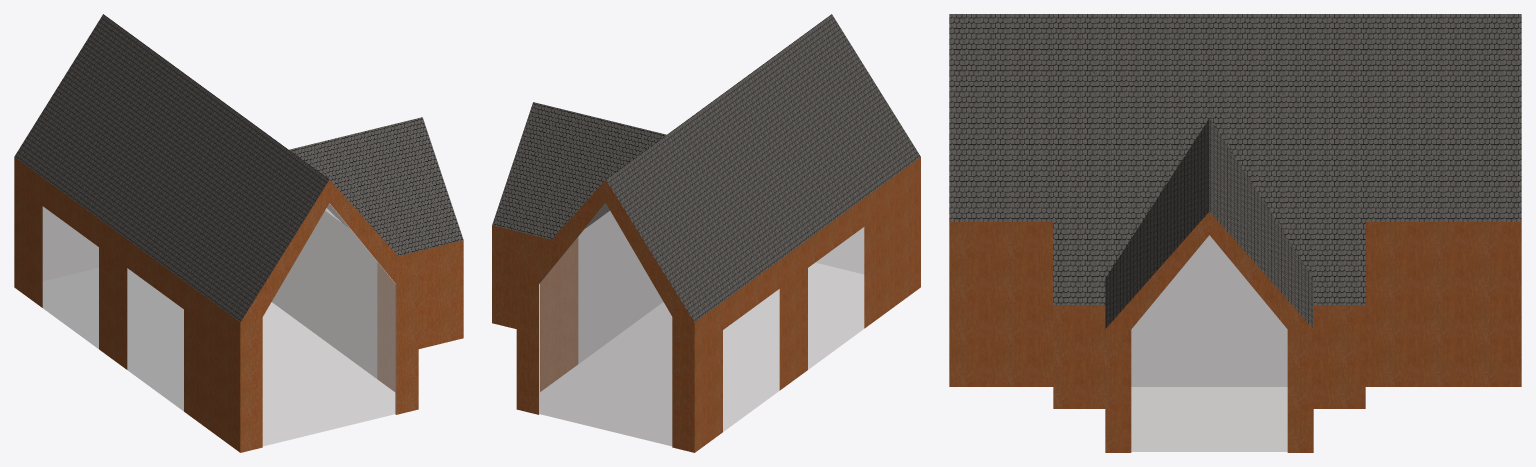
Rendered from simpel houten huis.dae.
3 views of the same model, side by side, from view 1: azimuth 30°, elevation 25°; view 2: azimuth 150°, elevation 25°; view 3: azimuth 270°, elevation 25° (orthographic). The views are drawn at different scales.
Visible parts, largest first — view 1: Model; view 2: Model; view 3: Model.
Part boxes in pixels (left/top/right/bottom): Model: left=14, top=14, right=463, bottom=452; Model: left=492, top=14, right=920, bottom=452; Model: left=949, top=14, right=1521, bottom=452.
Bounding box in the file's own units: 16 × 22 × 13.5.
Materials: 4 (2 with a texture image).
